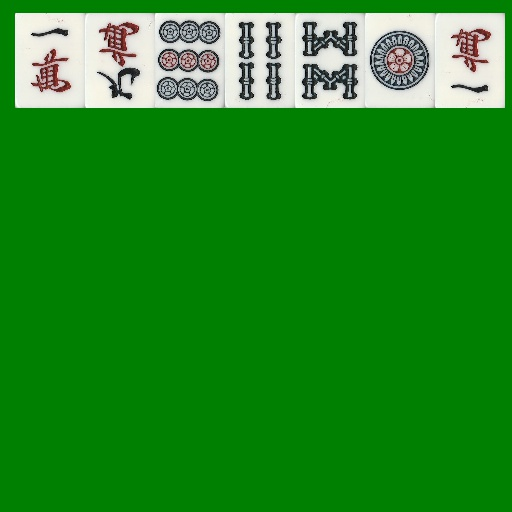1m: (15, 13, 85, 108), (435, 13, 505, 108)
1p: (365, 13, 435, 108)
4s: (225, 13, 295, 108)
8s: (295, 13, 365, 108)
9m: (85, 13, 155, 108)
9p: (155, 13, 225, 108)
